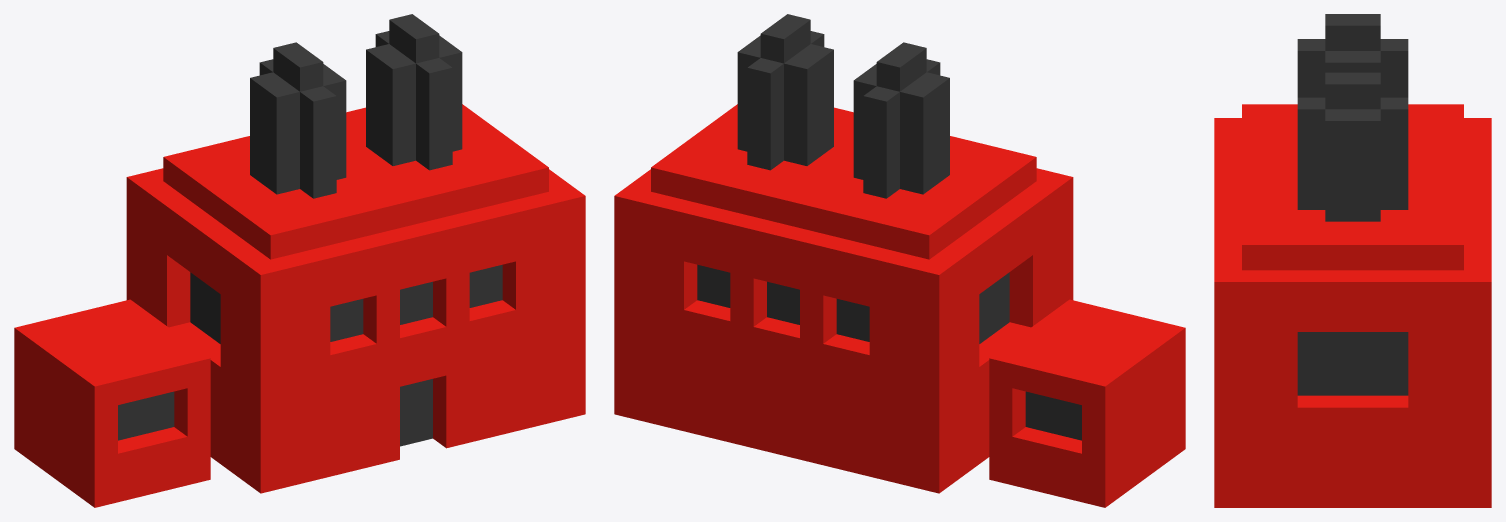
File: factory_red.obj
3 renders of one model, left to right at view 1: azimuth 30°, elevation 25°; view 2: azimuth 150°, elevation 25°; view 3: azimuth 270°, elevation 25°, orthographic. The views are drawn at different scales.
Visible parts, largest first — view 1: factory_red; view 2: factory_red; view 3: factory_red.
Part boxes in pixels (x1,y1,x2,y2): factory_red: [14, 14, 585, 507]; factory_red: [614, 14, 1185, 507]; factory_red: [1214, 14, 1491, 507].
Bounding box in the file's own units: 20 × 15 × 10.
1 material, 1 textured.
